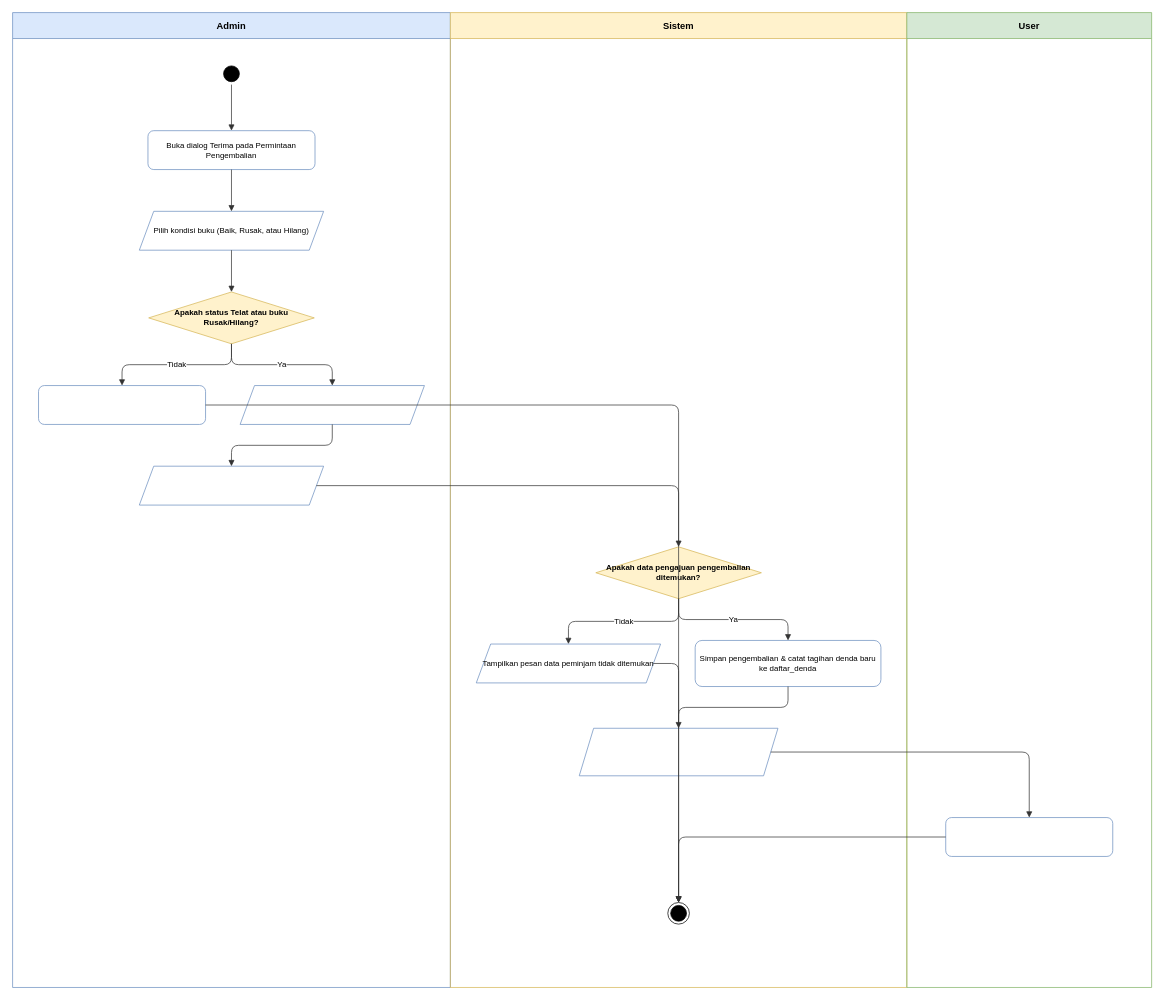
The diagram is 1164 pixels wide and 1000 high, and some of its shapes have lost their labels. Each missing label, with the box of its shape:
Anggota memiliki tagihan denda tercatat pada menu Denda: (945, 817, 1113, 856)
Input denda disembunyikan: (38, 385, 206, 424)
Klik tombol Terima pengembalian: (139, 465, 324, 505)
Tampilkan pesan pengembalian & denda berhasil dicatat: (579, 728, 778, 776)
Wajib isi Nominal Denda (Rp) dan Keterangan Denda: (239, 385, 424, 424)
